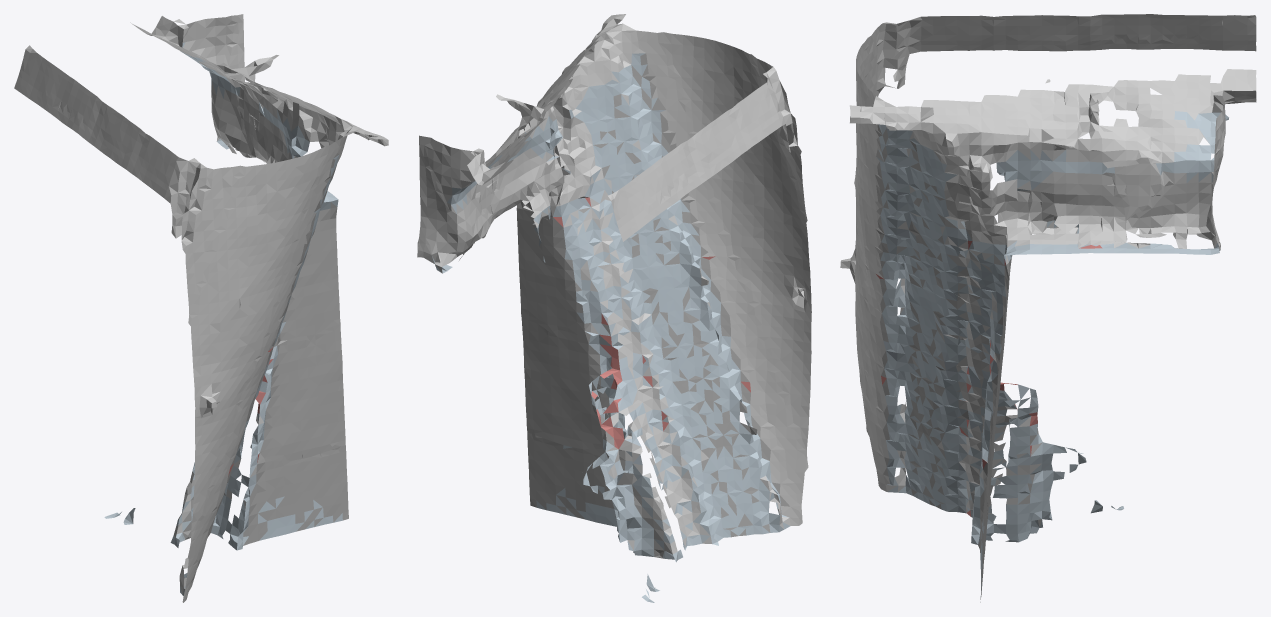
The model's file is R1-뜬면-2__nojudge_ALS_s0__after.glb.
3 views of the same model, side by side, from view 1: azimuth 30°, elevation 25°; view 2: azimuth 150°, elevation 25°; view 3: azimuth 270°, elevation 25° (orthographic). The views are drawn at different scales.
Bounding box in the file's own units: 18.2 × 35.44 × 27.58.
